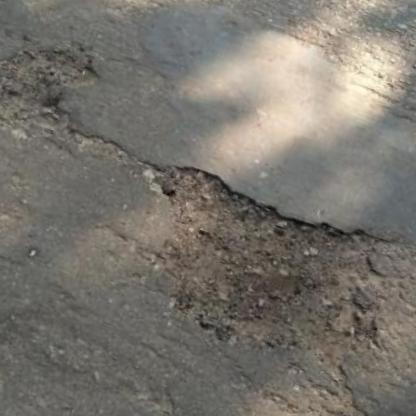pothole: (120, 153, 416, 400), (0, 16, 108, 161)
